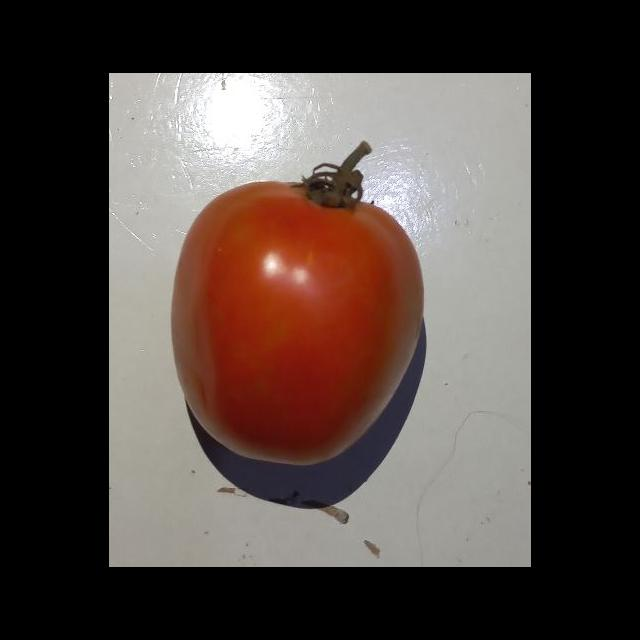tomato: (142, 166, 426, 454)
